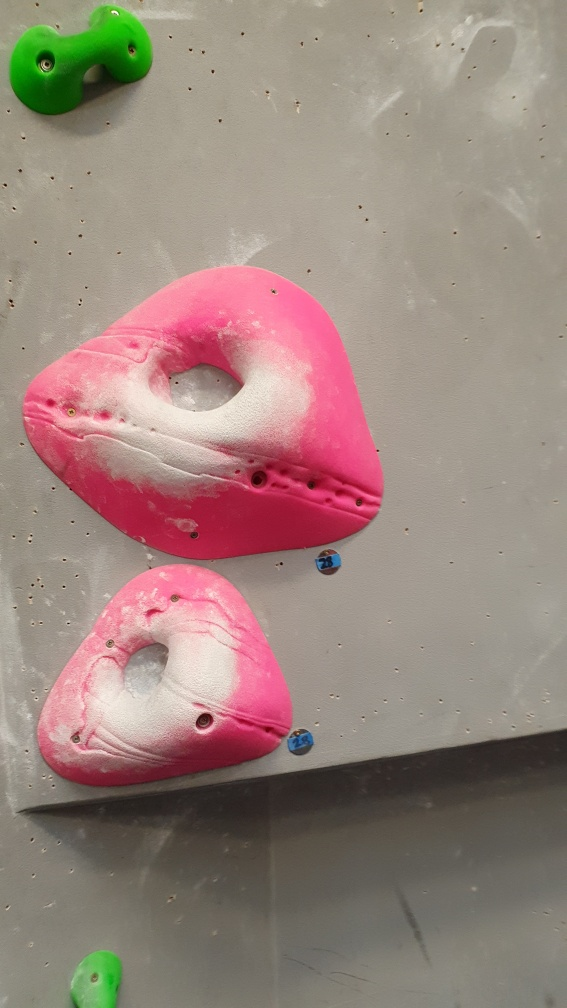Hand Start: (283, 726, 318, 760), (311, 546, 344, 579)
Pocket: (18, 260, 388, 564), (30, 559, 297, 790)
